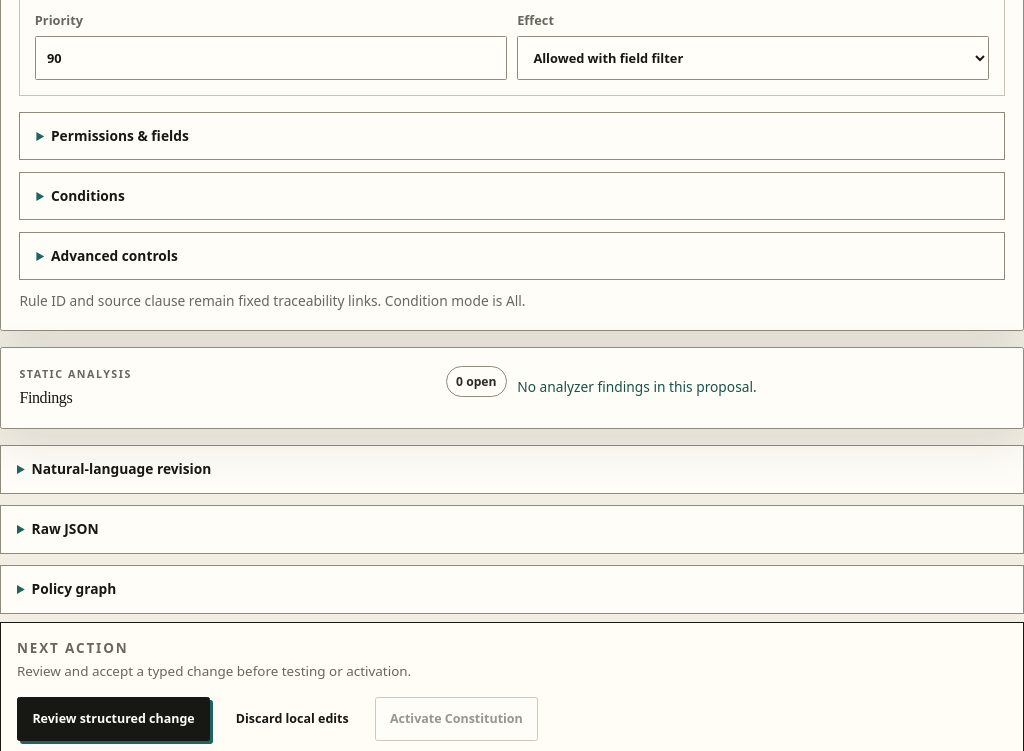
it: shows a natural-language revision diff without applying it and disables activation before tests
This screenshot has width=1024, height=751.
(page scrolled)
Click the heading "Natural-language revision": (121, 469) [1,446,1023,493]
(page scrolled)
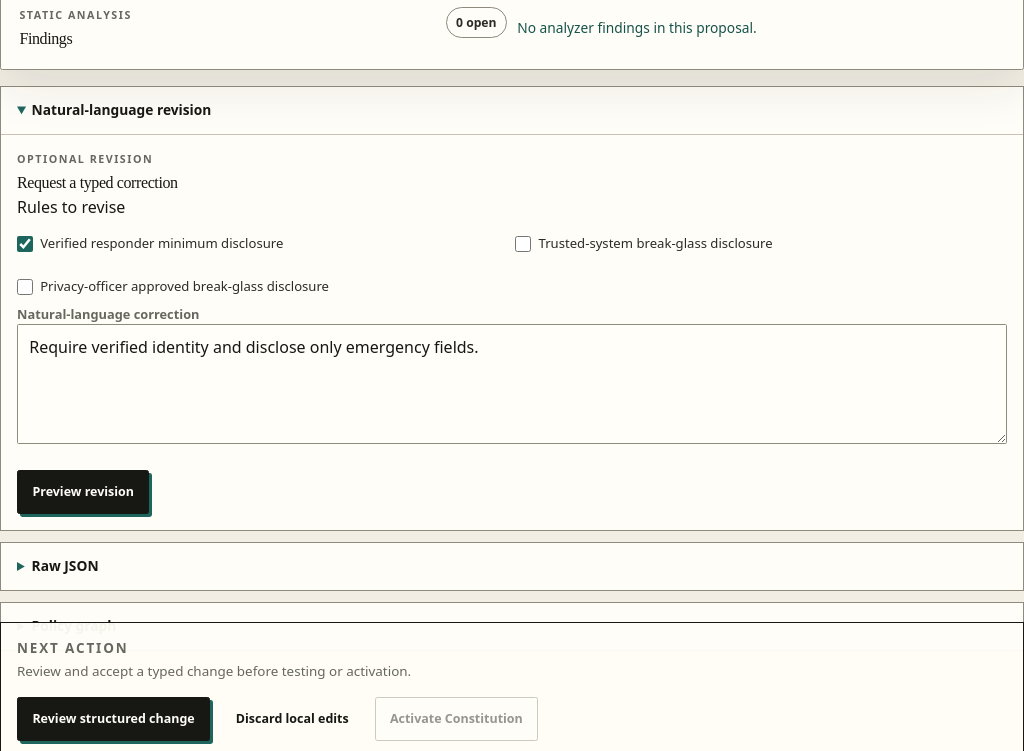
Clear the text box labelled "Natural-language correction": (512, 384) [17,324,1007,444]
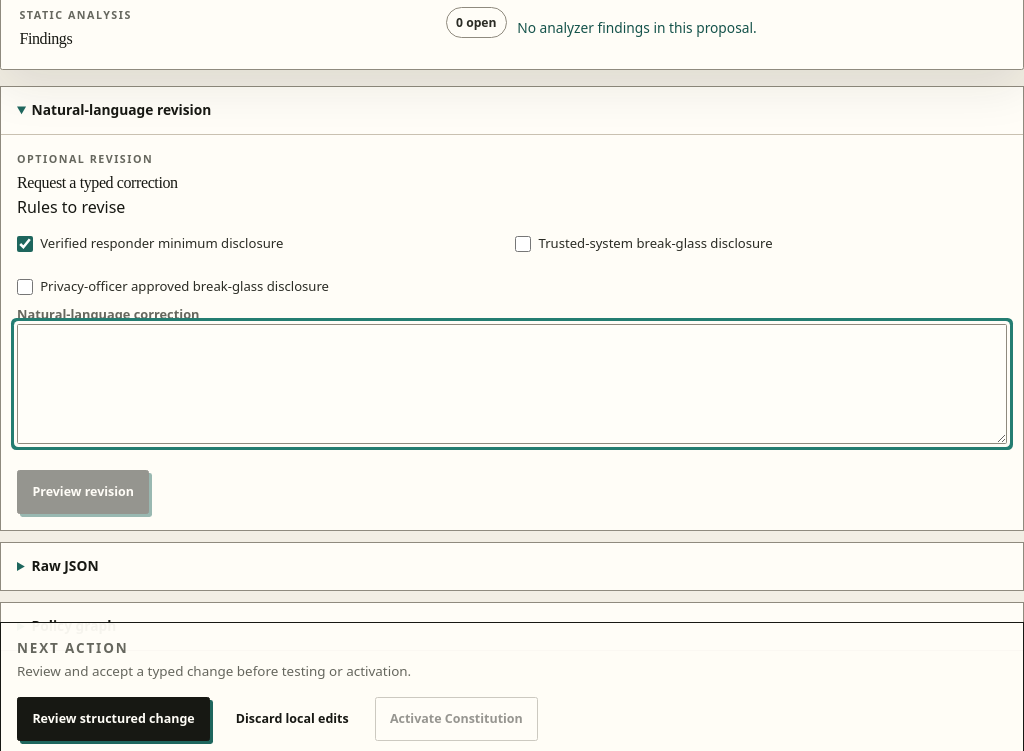
Type keys "Require verified identity and disclose only emergency fields."
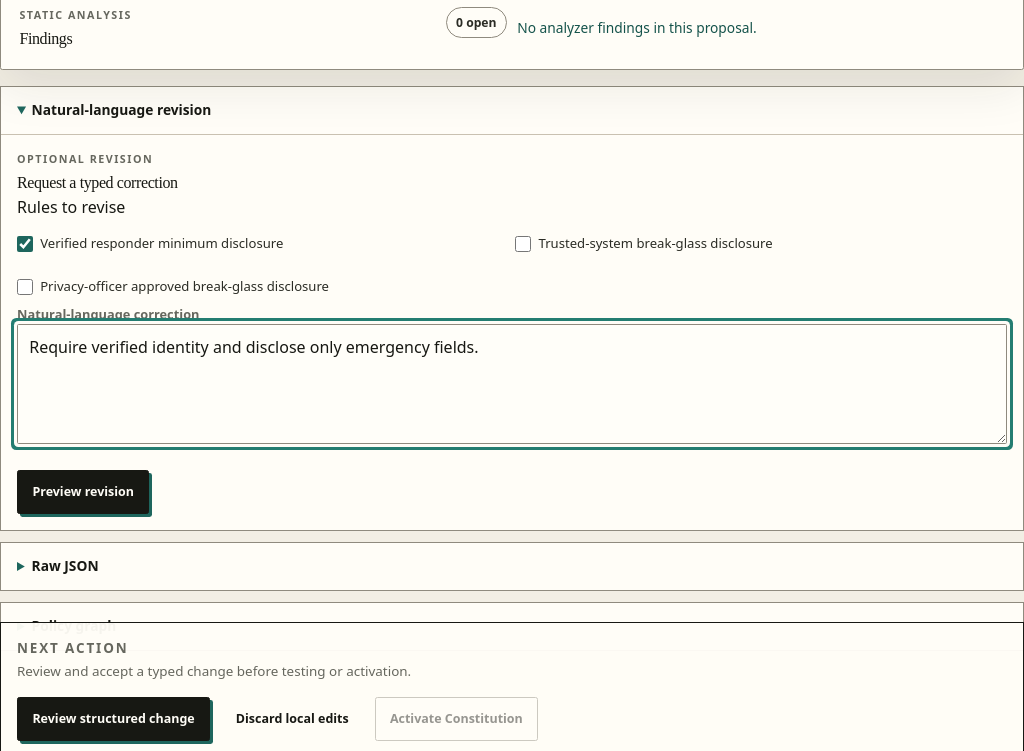
Click the button "Preview revision": (83, 492) [17,470,149,514]
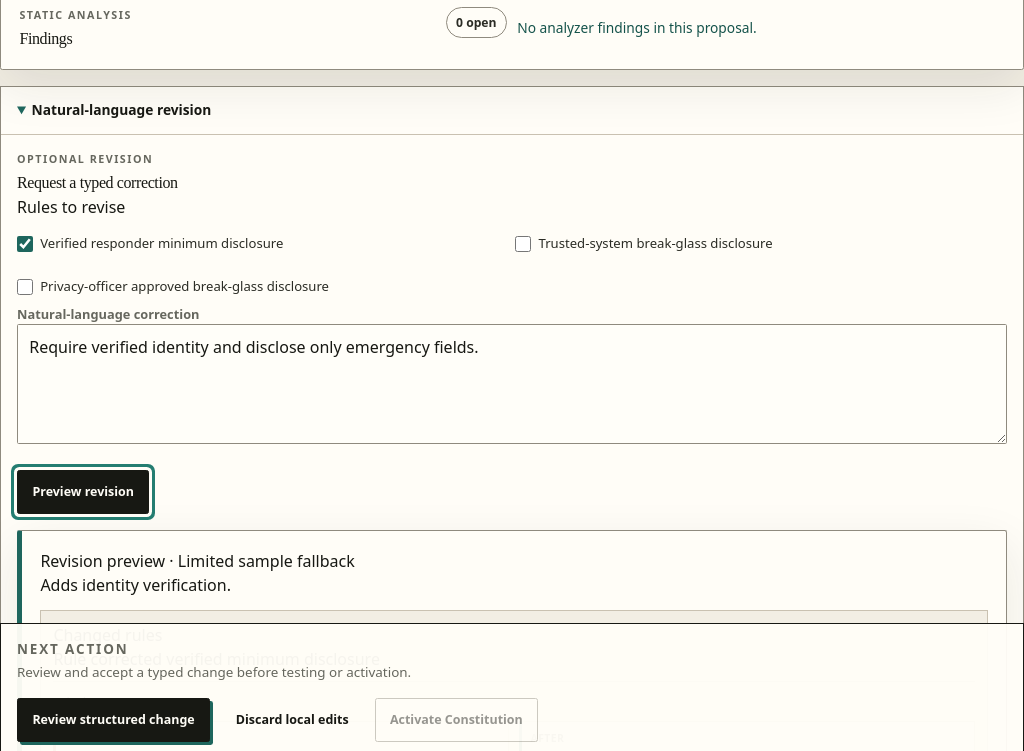
Check: the button "Activate Constitution" is disabled, box [374,697,538,741]
Check: the heading "Revision preview · Limited sample fallback" is shown, box [40,550,355,572]
Check: the heading "Changed rules" is shown, box [53,624,162,646]
